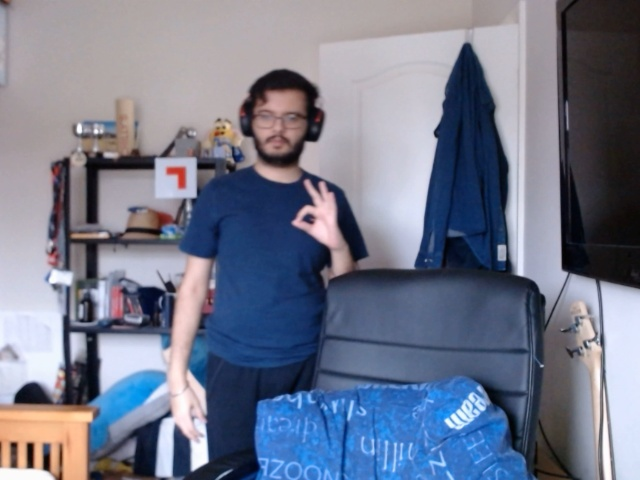Okay: (286, 170, 353, 265)
